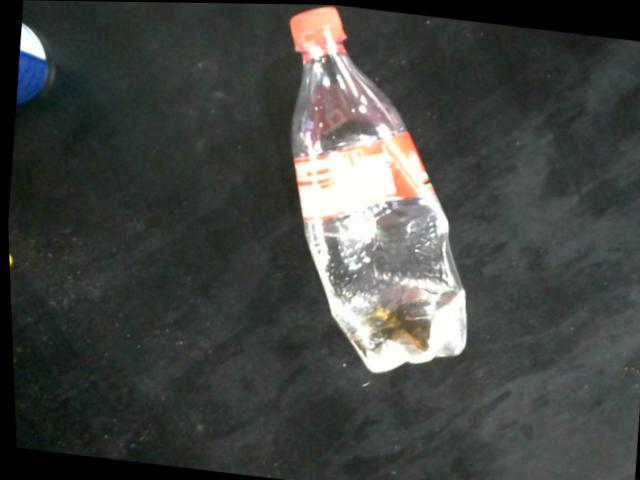bottle: (289, 4, 465, 373)
